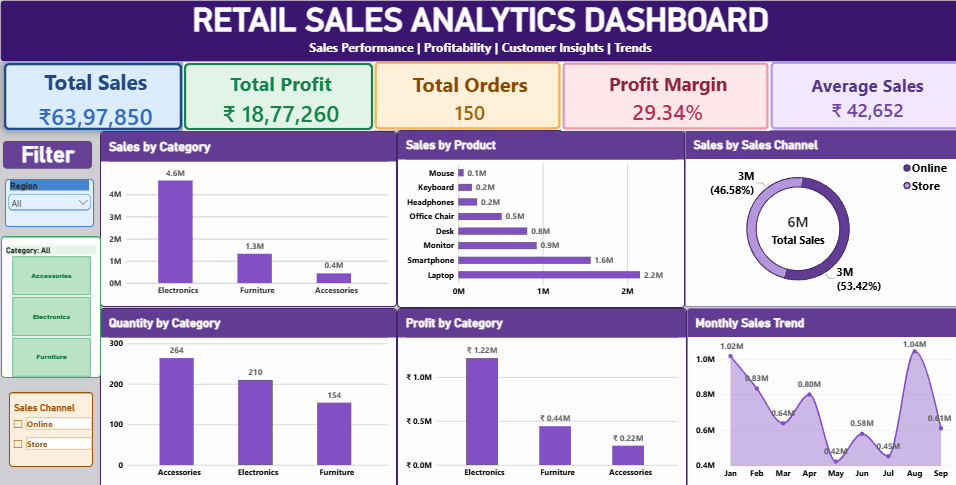

Layout of this report page (visuals, bound fields, positions):
{"tool":"powerbi","page":{"name":"Page 1","canvas":[1920,1080],"ordinal":0},"visuals":[{"type":"cardVisual","fields":{"Data":["Raw Data.Total Sales"]},"box":[6,124,360,138],"z":0},{"type":"columnChart","title":"Sales by Category","fields":{"Category":["Raw Data.Category"],"Y":["Sum(Raw Data.Sales)"]},"box":[200,262,594,352],"z":1000},{"type":"lineChart","title":"Monthly Sales Trend","fields":{"Category":["DateTable.Month"],"Y":["Sum(Raw Data.Sales)"]},"box":[1374,616,546,362],"z":2000},{"type":"clusteredBarChart","title":" Sales by Product","fields":{"Category":["Raw Data.Product"],"Y":["Sum(Raw Data.Sales)"]},"box":[794,260,576,356],"z":3000},{"type":"clusteredColumnChart","title":"Profit by Category","fields":{"Category":["Raw Data.Category"],"Y":["Raw Data.Total Profit"]},"box":[794,616,580,362],"z":4000},{"type":"donutChart","title":" Sales by Sales Channel","fields":{"Category":["Raw Data.Sales Channel"],"Y":["Sum(Raw Data.Sales)"]},"box":[1370,260,550,354],"z":5000},{"type":"clusteredColumnChart","title":" Quantity by Category","fields":{"Category":["Raw Data.Category"],"Y":["Sum(Raw Data.Quantity)"]},"box":[200,616,594,362],"z":6000},{"type":"slicer","fields":{"Values":["Raw Data.Region"]},"box":[10.8,358.6,178,96],"z":7000},{"type":"slicer","fields":{"Values":["Raw Data.Category"]},"box":[2,472,200,284],"z":8000},{"type":"slicer","fields":{"Values":["Raw Data.Sales Channel"]},"box":[18,784,168,150],"z":9000},{"type":"cardVisual","fields":{"Data":["Raw Data.Total Profit"]},"box":[366,124,382,138],"z":10000},{"type":"cardVisual","fields":{"Data":["Raw Data.Total Orders"]},"box":[748,122,374,138],"z":11000},{"type":"cardVisual","fields":{"Data":["Raw Data.Profit Margin"]},"box":[1122,122,418,140],"z":12000},{"type":"cardVisual","fields":{"Data":["Raw Data.Average Sales"]},"box":[1540,122,380,138],"z":13000},{"type":"textbox","title":"                            RETAIL SALES ANALYTICS DASHBOARD","box":[0,0,1920,124],"z":14000},{"type":"textbox","title":"Filter","box":[5,282.5,177.5,55],"z":15000}]}

Visuals, with their boxes on the page's 1920x1080 design canvas (x1, y1, x2, y2). These are canvas units, not pixel positions in the 956x485 screenshot, which may show the page scaled, cropped or inside an application window:
cardVisual - Raw Data.Total Sales: rect(6, 124, 366, 262)
"Sales by Category" columnChart: rect(200, 262, 794, 614)
"Monthly Sales Trend" lineChart: rect(1374, 616, 1920, 978)
" Sales by Product" clusteredBarChart: rect(794, 260, 1370, 616)
"Profit by Category" clusteredColumnChart: rect(794, 616, 1374, 978)
" Sales by Sales Channel" donutChart: rect(1370, 260, 1920, 614)
" Quantity by Category" clusteredColumnChart: rect(200, 616, 794, 978)
slicer - Raw Data.Region: rect(11, 359, 189, 455)
slicer - Raw Data.Category: rect(2, 472, 202, 756)
slicer - Raw Data.Sales Channel: rect(18, 784, 186, 934)
cardVisual - Raw Data.Total Profit: rect(366, 124, 748, 262)
cardVisual - Raw Data.Total Orders: rect(748, 122, 1122, 260)
cardVisual - Raw Data.Profit Margin: rect(1122, 122, 1540, 262)
cardVisual - Raw Data.Average Sales: rect(1540, 122, 1920, 260)
"                            RETAIL SALES ANALYTICS DASHBOARD" textbox: rect(0, 0, 1920, 124)
"Filter" textbox: rect(5, 282, 182, 338)
